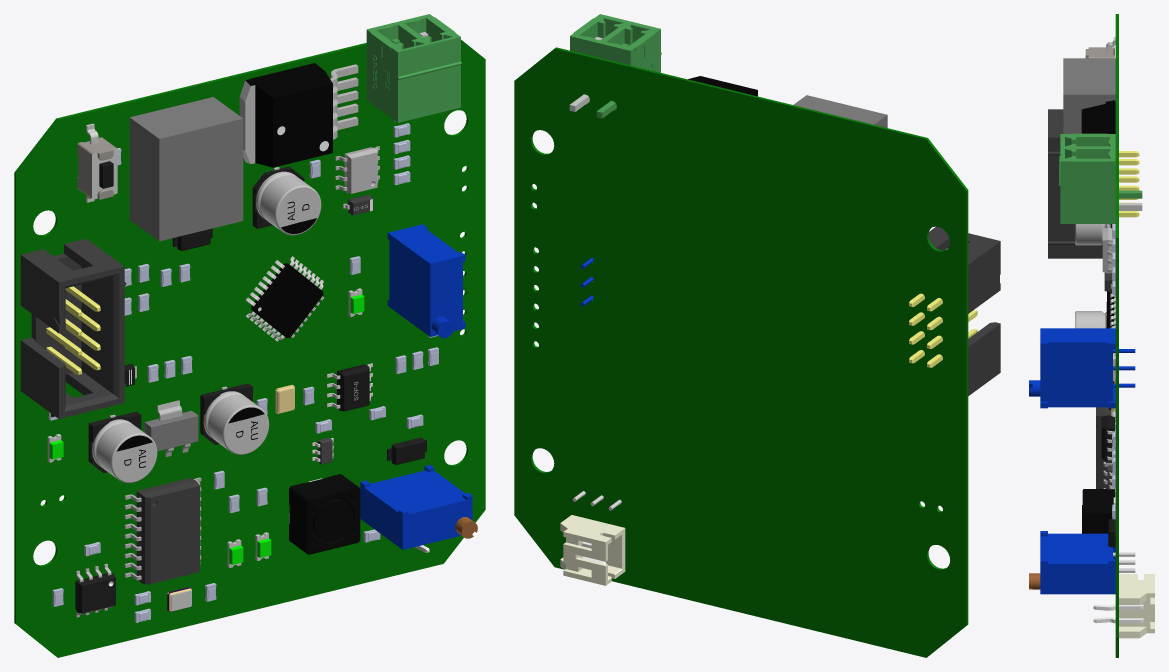
File: PCB_EMG.fbx
3 renders of one model, left to right at view 1: azimuth 30°, elevation 25°; view 2: azimuth 150°, elevation 25°; view 3: azimuth 270°, elevation 25°, orthographic. The views are drawn at different scales.
Visible parts, largest first — view 1: Body_1, 3DGeom~1874, Body_1_9, 3DGeom~358, 3DGeom~33_2, 3DGeom~33, 3DGeom~2278, Body_2, 3DGeom~1585, 3DGeom~3428, 3DGeom~3428_2, Body_1_18 (+17 smaller); view 2: Body_1, 3DGeom~1874, Body_1_11, 3DGeom~3428_2, Body_1_9, 3DGeom~3428, 3DGeom~1873, Body_1_29; view 3: 3DGeom~33_2, 3DGeom~33, Body_1_28, Body_1_9, 3DGeom~1874, Body_1, Body_1_11, Body_2, 3DGeom~358, 3DGeom~1873, 3DGeom~3428, 3DGeom~3428_2 (+12 smaller).
Boxes of the visible parts, bbox=[...] form: Body_1: bbox=[14, 40, 485, 657]; 3DGeom~1874: bbox=[20, 238, 126, 418]; Body_1_9: bbox=[129, 97, 243, 241]; 3DGeom~358: bbox=[245, 63, 332, 167]; 3DGeom~33_2: bbox=[387, 224, 465, 336]; 3DGeom~33: bbox=[360, 465, 472, 549]; 3DGeom~2278: bbox=[136, 478, 199, 584]; Body_2: bbox=[289, 474, 360, 554]; 3DGeom~1585: bbox=[251, 263, 323, 337]; 3DGeom~3428: bbox=[398, 15, 458, 115]; 3DGeom~3428_2: bbox=[370, 22, 430, 121]; Body_1_18: bbox=[256, 171, 321, 235]; Body_1: bbox=[514, 47, 968, 657]; 3DGeom~1874: bbox=[928, 226, 1000, 395]; Body_1_11: bbox=[560, 515, 625, 585]; 3DGeom~3428_2: bbox=[600, 21, 656, 109]; Body_1_9: bbox=[793, 95, 887, 127]; 3DGeom~3428: bbox=[573, 15, 629, 103]; 3DGeom~1873: bbox=[909, 293, 977, 367]; Body_1_29: bbox=[627, 28, 661, 72]; 3DGeom~33_2: bbox=[1040, 328, 1115, 408]; 3DGeom~33: bbox=[1040, 531, 1115, 594]; Body_1_28: bbox=[1058, 160, 1115, 223]; Body_1_9: bbox=[1063, 58, 1115, 133]; 3DGeom~1874: bbox=[1048, 109, 1102, 258]; Body_1: bbox=[1115, 14, 1118, 657]; Body_1_11: bbox=[1119, 574, 1154, 638]; Body_2: bbox=[1082, 489, 1114, 533]; 3DGeom~358: bbox=[1081, 100, 1115, 133]; 3DGeom~1873: bbox=[1119, 151, 1139, 217]; 3DGeom~3428: bbox=[1058, 147, 1115, 182]; 3DGeom~3428_2: bbox=[1058, 135, 1115, 169].
Size of the model in its own units: 0.064 by 0.0168 by 0.0721.
